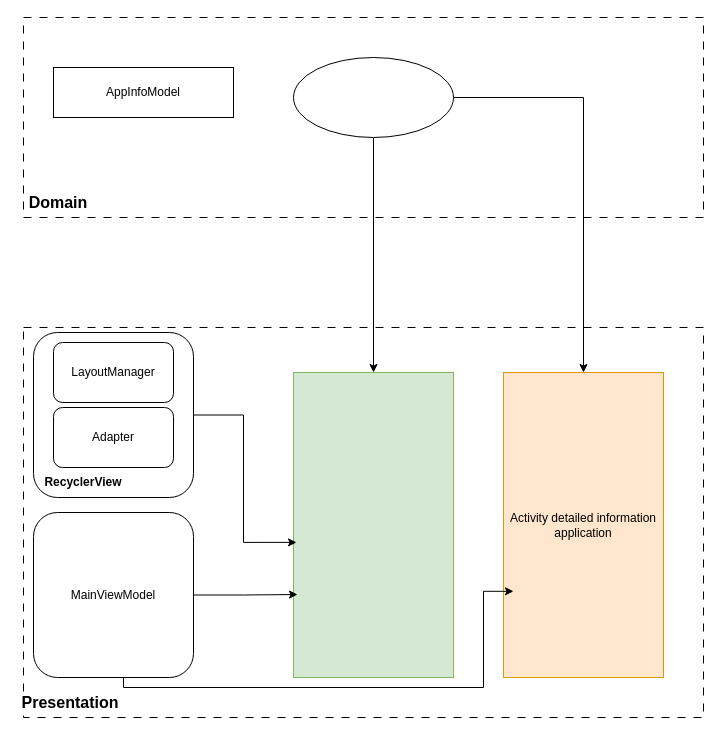
Some shapes in this 721 by 735 pixel diagram are drawn without their labels. Each missing label, with the box of its shape:
Activity Installed application: (292, 372, 454, 678)
UseCaseGetInstalledApps: (292, 56, 454, 138)
